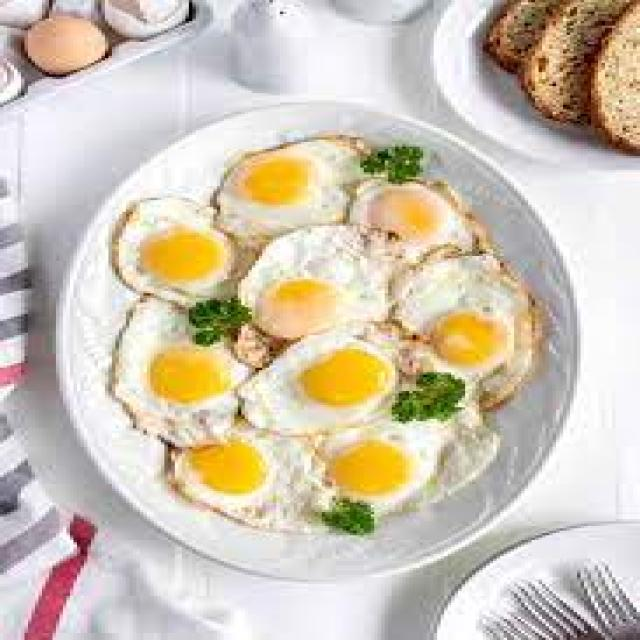Egg: (169, 405, 498, 532), (393, 254, 539, 408), (113, 297, 252, 446), (325, 405, 498, 512), (239, 225, 389, 339), (169, 427, 331, 532), (239, 333, 396, 434), (216, 139, 363, 239), (116, 199, 233, 306), (349, 180, 473, 264)
